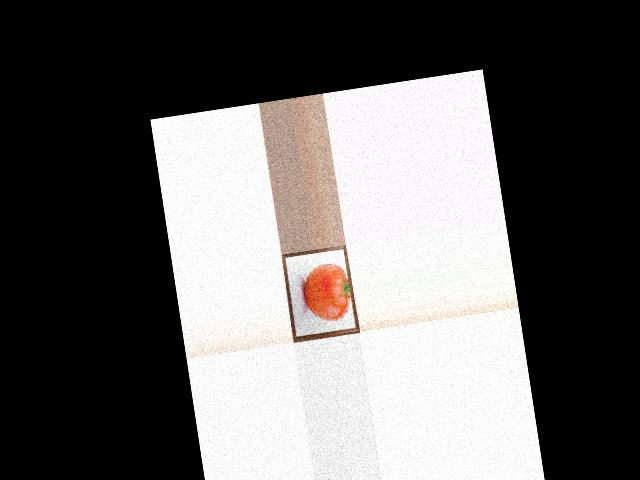tomato: (300, 261, 354, 324)
